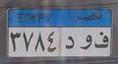3: (10, 31, 21, 53)
4: (47, 30, 58, 54)
7: (23, 31, 34, 51)
8: (34, 31, 44, 53)
daal: (63, 34, 78, 51)
faa: (94, 31, 110, 50)
waw: (79, 33, 93, 51)
